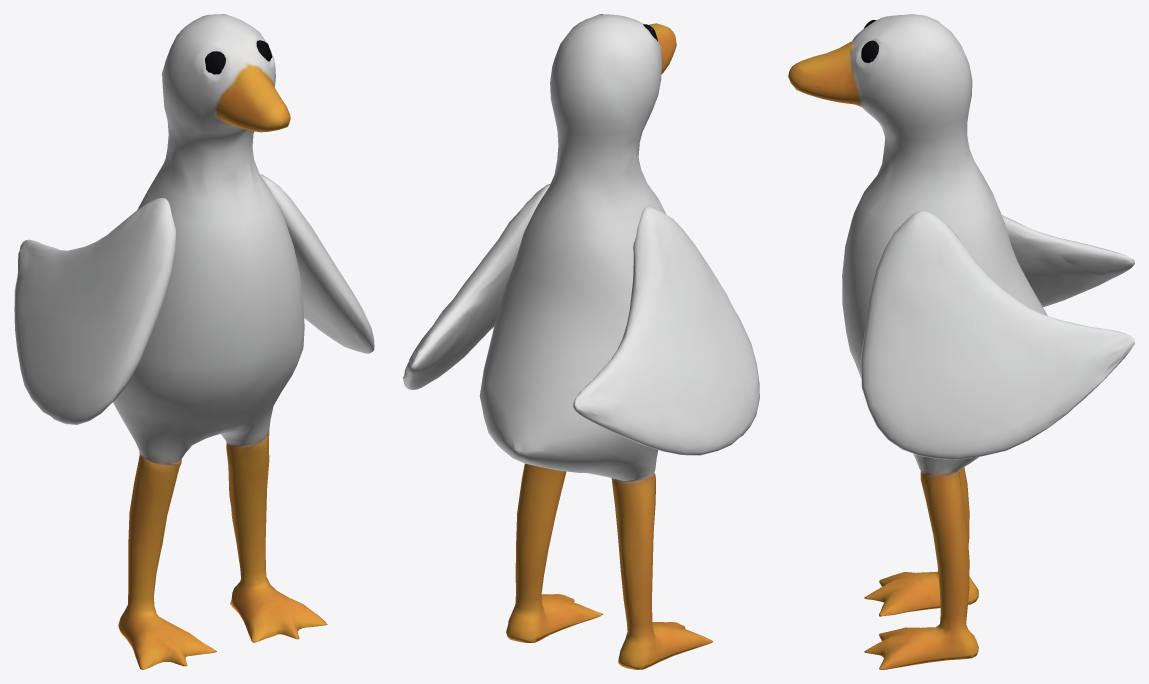
File: Duck.glb
The picture shows the model from 3 angles, left to right: view 1: azimuth 30°, elevation 25°; view 2: azimuth 150°, elevation 25°; view 3: azimuth 270°, elevation 25°; orthographic projection.
Visible parts, largest first — view 1: geometry_0; view 2: geometry_0; view 3: geometry_0.
Boxes of the visible parts, bbox=[...] form: geometry_0: bbox=[14, 14, 374, 669]; geometry_0: bbox=[403, 14, 759, 669]; geometry_0: bbox=[788, 14, 1134, 669].
Size of the model in its own units: 0.4937 by 0.9507 by 0.4917.
Materials: 1 (1 with a texture image).
